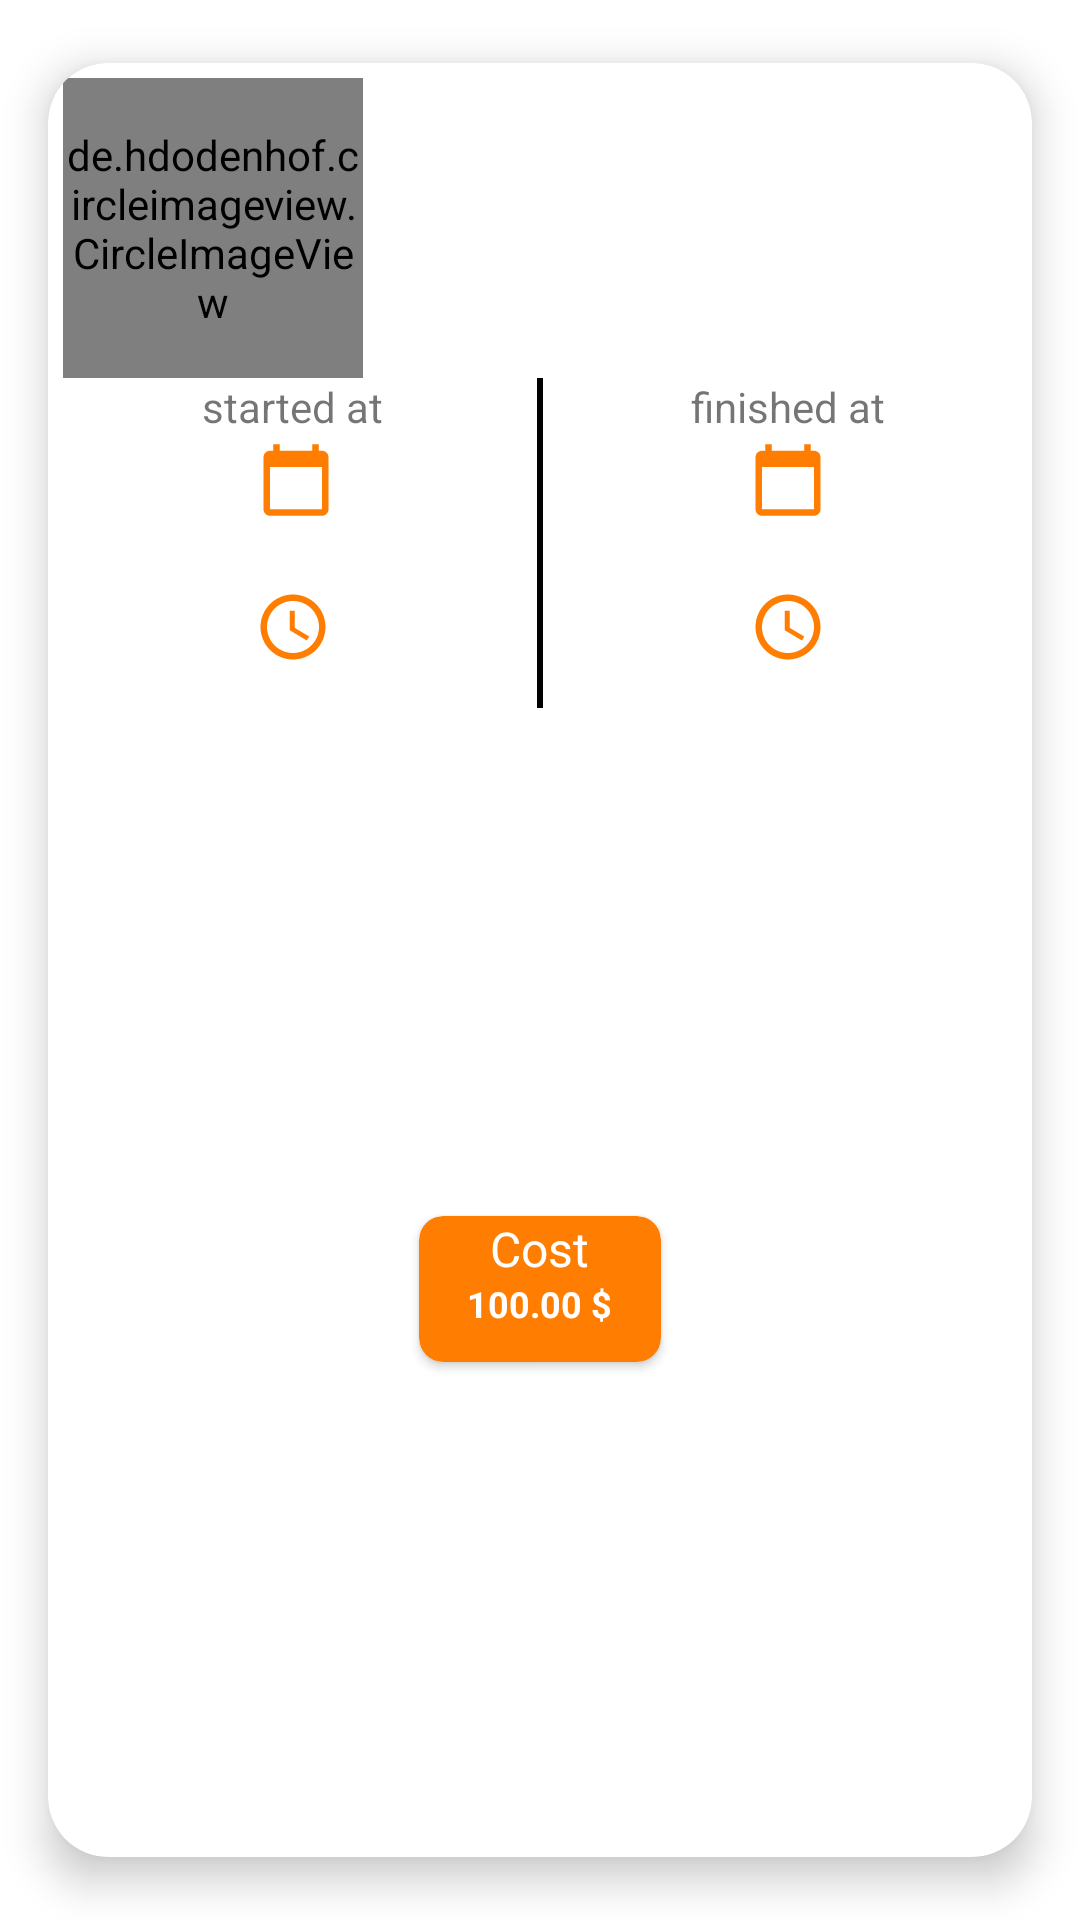

Named icons in this screenshot (1080*1920) and their bounding boxes, (x1, y1, x2, y2):
access time: (260, 594, 326, 660), (755, 594, 821, 660)
calendar today: (263, 444, 329, 516), (755, 444, 821, 516)
